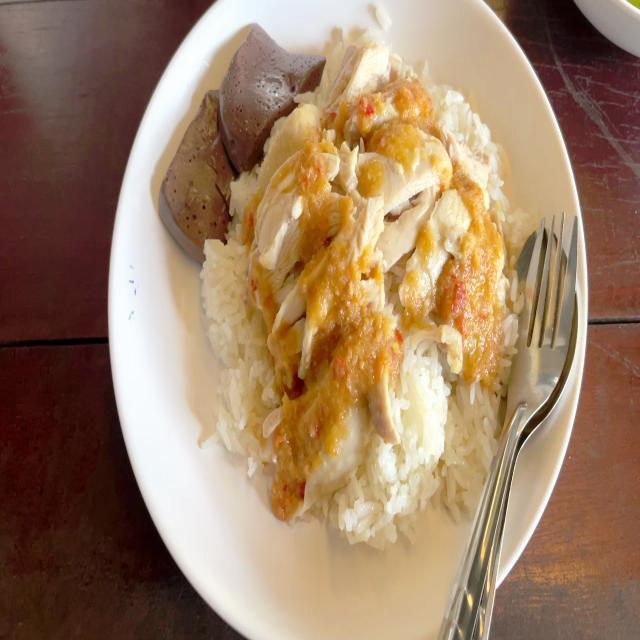boiled_chicken: (260, 62, 500, 446)
boiled_chicken_blood_jelly: (218, 16, 318, 151), (159, 80, 235, 233)
chicken_rice: (166, 2, 516, 558)
